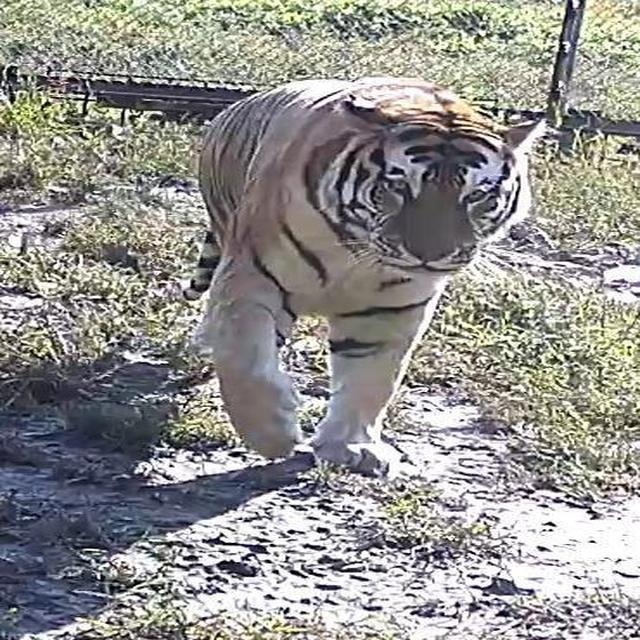tiger: (183, 74, 550, 479)
